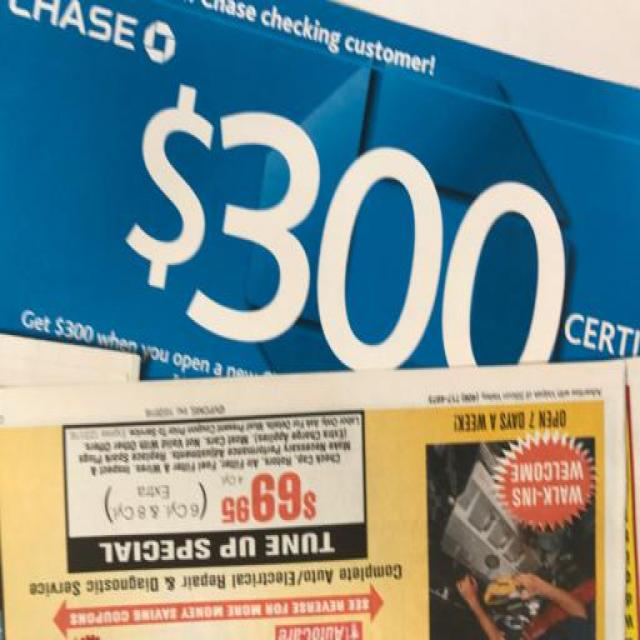paper: (2, 1, 640, 638)
